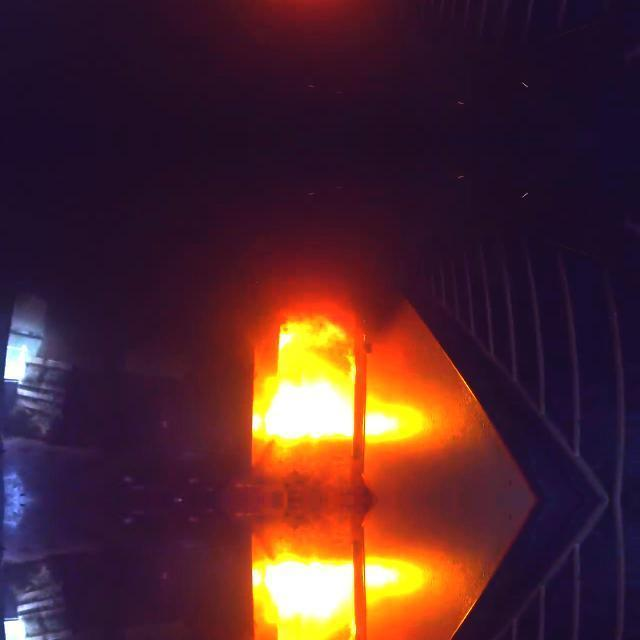smoke: (253, 308, 419, 442), (253, 557, 419, 640)
